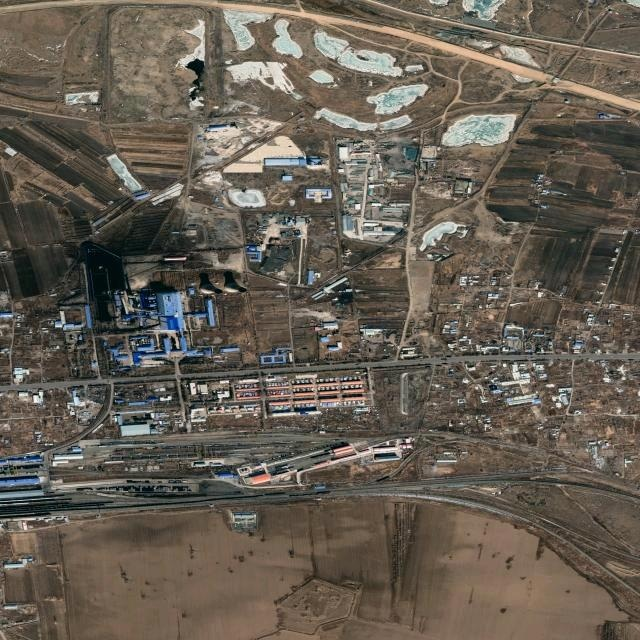coal_fired_power_plant: (87, 251, 247, 369)
